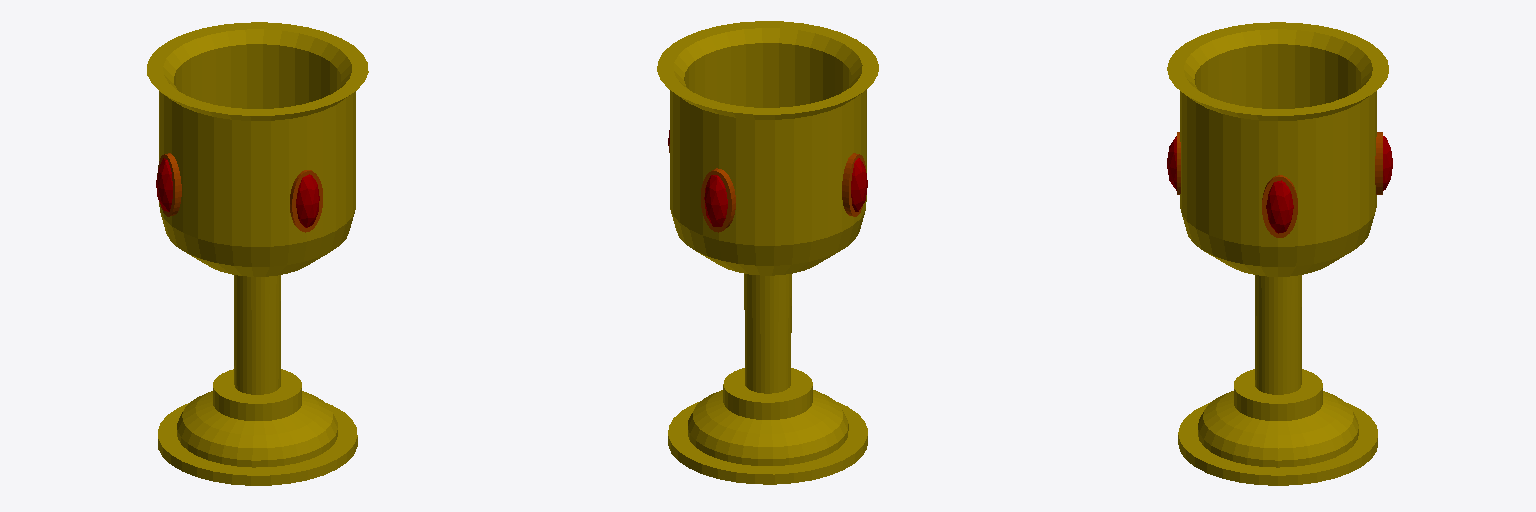
Rendered from goldGoblet.obj.
The picture shows the model from 3 angles: view 1: azimuth 30°, elevation 25°; view 2: azimuth 150°, elevation 25°; view 3: azimuth 270°, elevation 25°; orthographic projection.
Visible parts, largest first — view 1: Cylinder; view 2: Cylinder; view 3: Cylinder.
Part boxes in pixels (x1,y1,x2,y2): Cylinder: (147, 22, 368, 485); Cylinder: (657, 21, 878, 484); Cylinder: (1167, 22, 1392, 485).
Bounding box in the file's own units: 2.26 × 4.12 × 2.26.